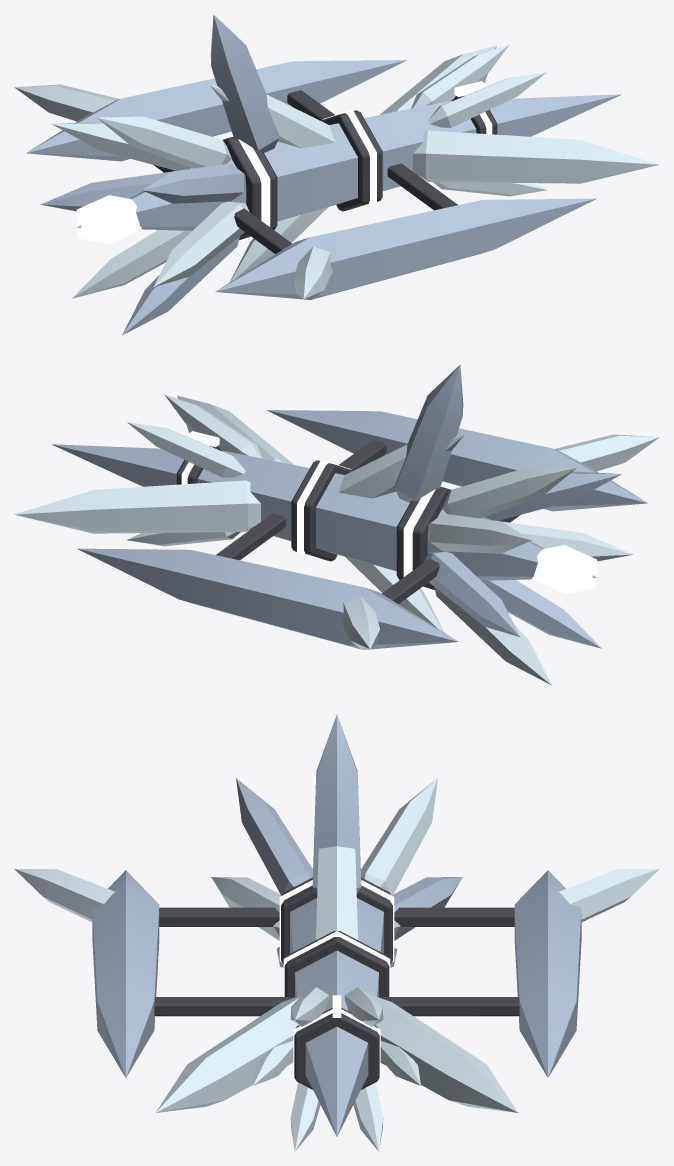
The model's file is crystal_titan.glb.
3 views of the same model, one above another, from view 1: azimuth 30°, elevation 25°; view 2: azimuth 150°, elevation 25°; view 3: azimuth 270°, elevation 25° (orthographic). The views are drawn at different scales.
Visible parts, largest first — view 1: crystal_titan; view 2: crystal_titan; view 3: crystal_titan.
Part boxes in pixels (x1,y1,x2,y2): crystal_titan: (14, 15, 659, 335); crystal_titan: (14, 365, 659, 685); crystal_titan: (14, 714, 659, 1151).
Bounding box in the file's own units: 3 × 1.45 × 2.75.
